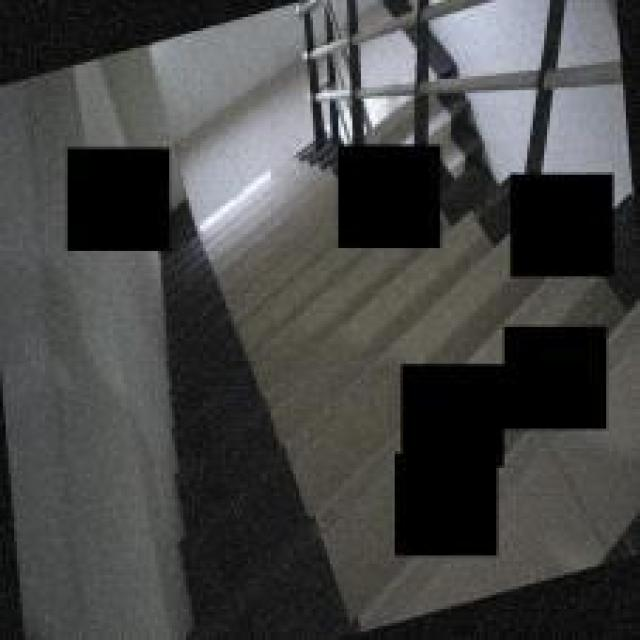downstair: (181, 305, 396, 565)
